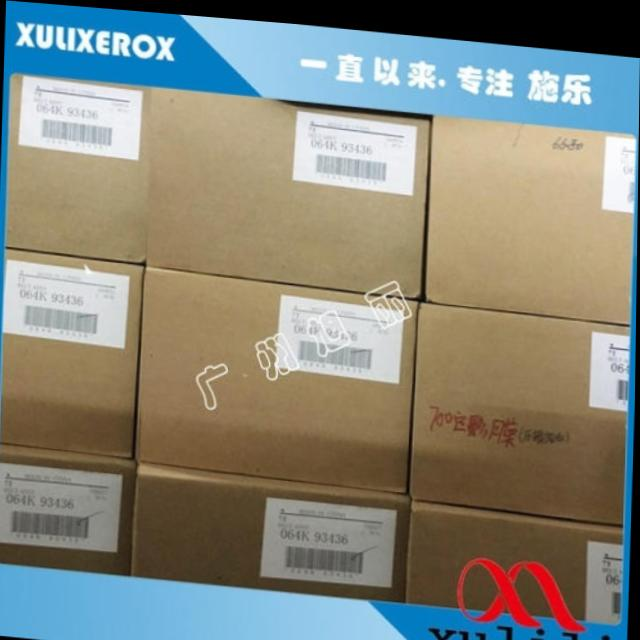box: (136, 265, 416, 488), (145, 84, 431, 291), (411, 296, 631, 517), (423, 106, 637, 315), (134, 463, 411, 595), (0, 250, 144, 454), (5, 72, 149, 260), (406, 494, 623, 614), (0, 447, 134, 573)
